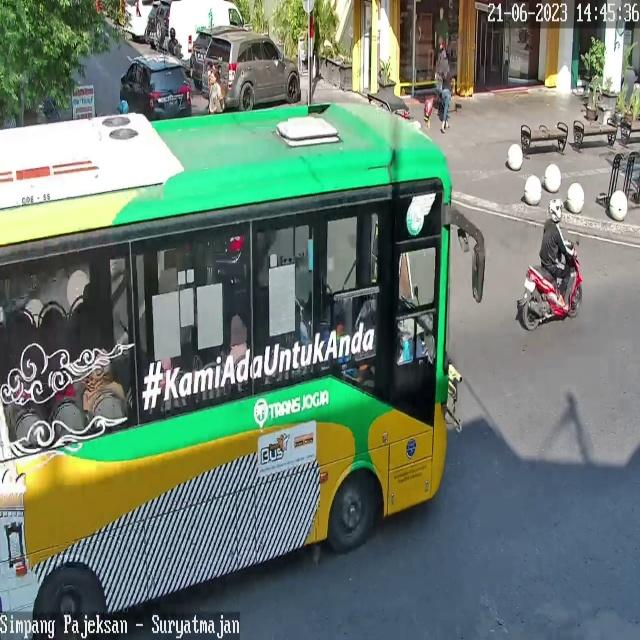bus: (518, 238, 584, 330)
car: (0, 100, 452, 640)
motorcycle: (202, 30, 302, 111), (166, 0, 245, 67), (120, 55, 192, 122), (191, 27, 213, 84), (122, 0, 152, 38)
